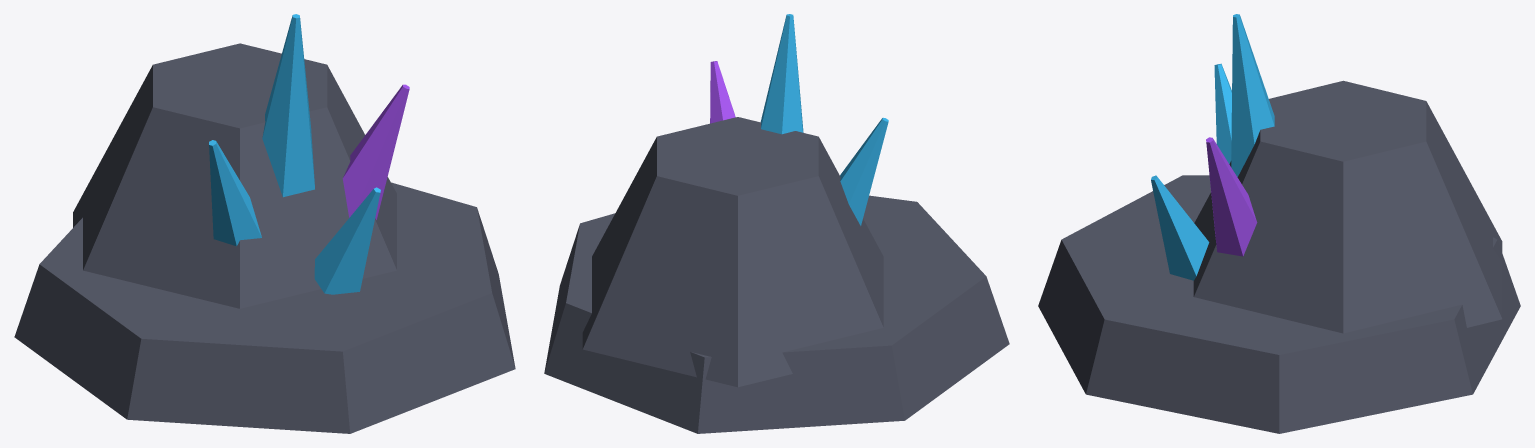
File: crystal_cavern.glb
The picture shows the model from 3 angles, left to right: view 1: azimuth 30°, elevation 25°; view 2: azimuth 150°, elevation 25°; view 3: azimuth 270°, elevation 25°; orthographic projection. The views are drawn at different scales.
Visible parts, largest first — view 1: crystal_cavern; view 2: crystal_cavern; view 3: crystal_cavern.
Part boxes in pixels (left/top/right/bottom): crystal_cavern: left=14, top=14, right=515, bottom=433; crystal_cavern: left=544, top=14, right=1009, bottom=433; crystal_cavern: left=1038, top=14, right=1520, bottom=433.
Bounding box in the file's own units: 2.36 × 1.74 × 2.42.
